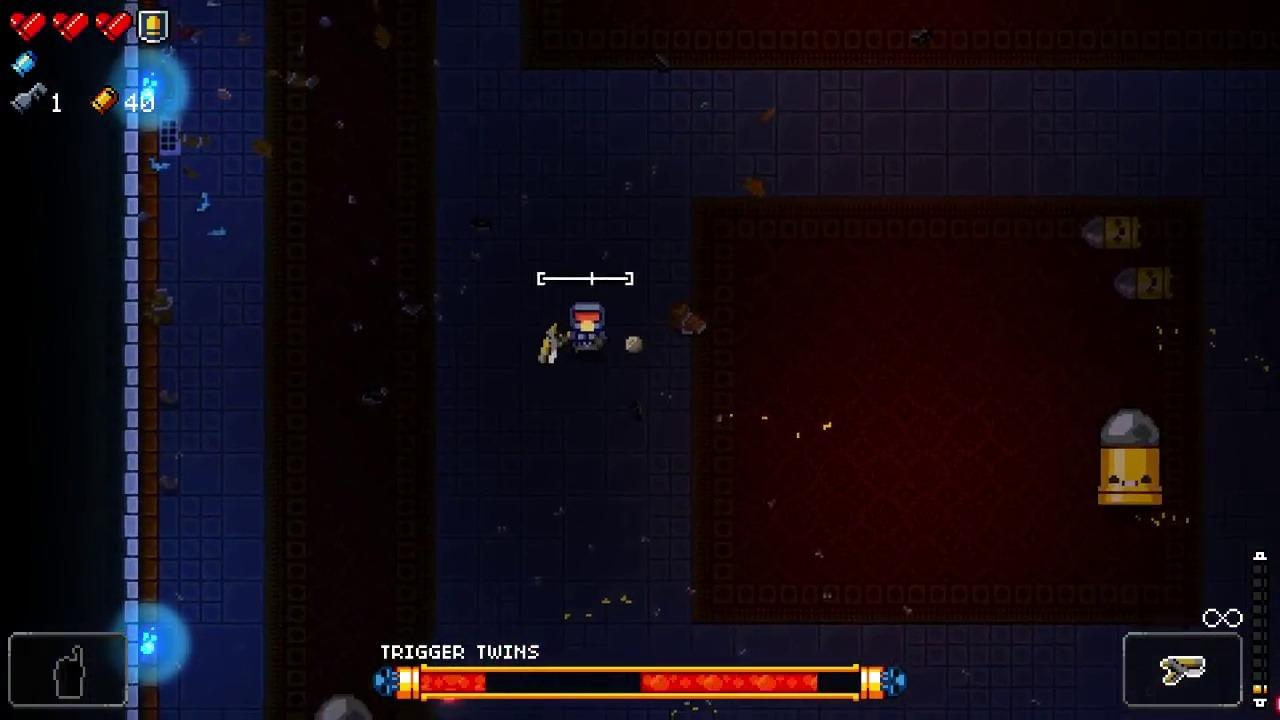boss_smiley: (1096, 408, 1164, 509)
dead_bullet_kin: (1082, 217, 1143, 250), (1116, 268, 1175, 302)
player: (568, 301, 610, 354)
